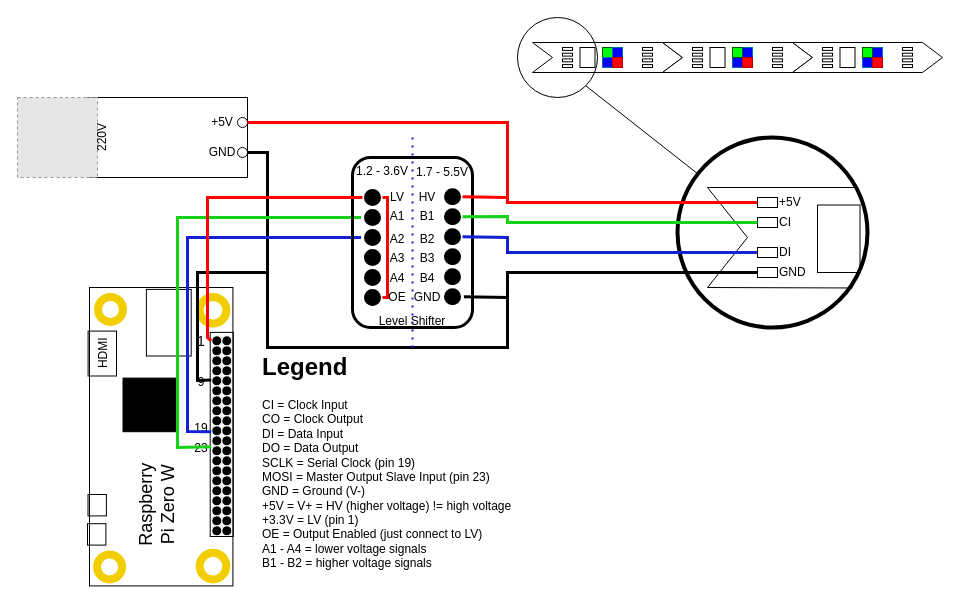
Image size: 960x604. Some labels were removed from this diagram. Grey dashed boxes stand in for pictures. Here are the shapes that lost their labels. From the top down, the box of each, then its label:
(86, 96, 248, 178): Power Supply
(816, 204, 860, 272): WS2801
